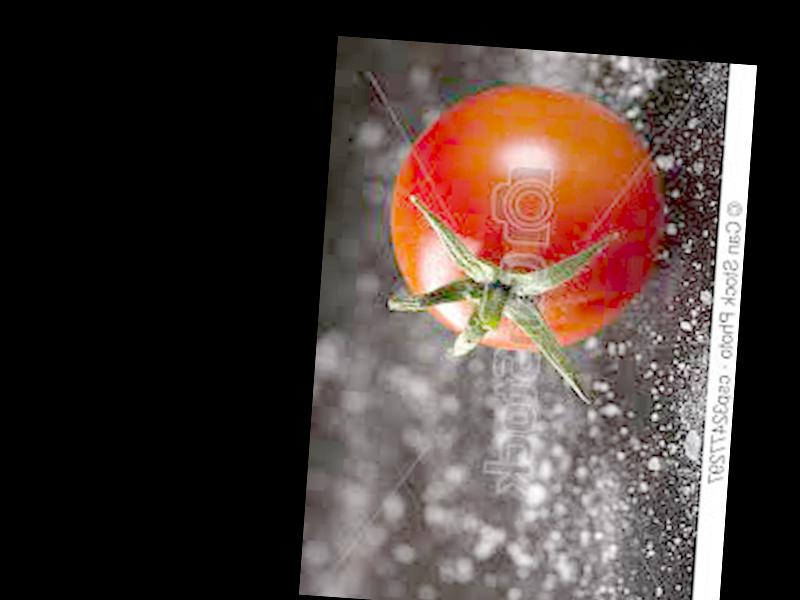Tomato: (381, 76, 668, 360)
